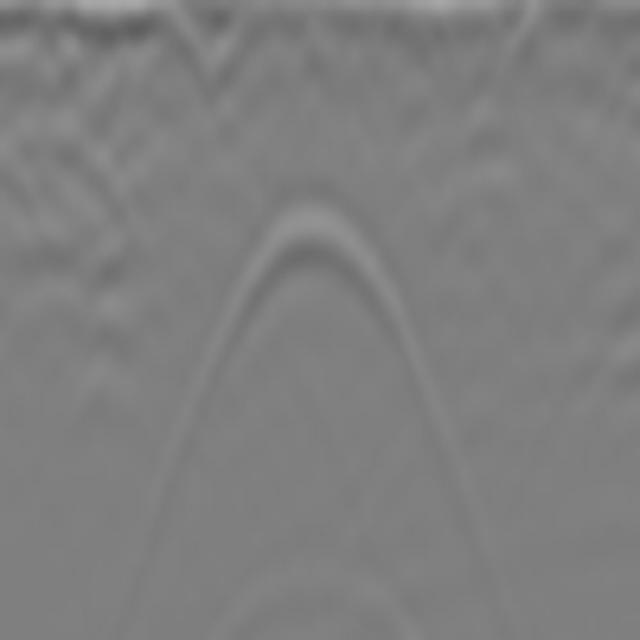hyperbola: (188, 185, 439, 458)
